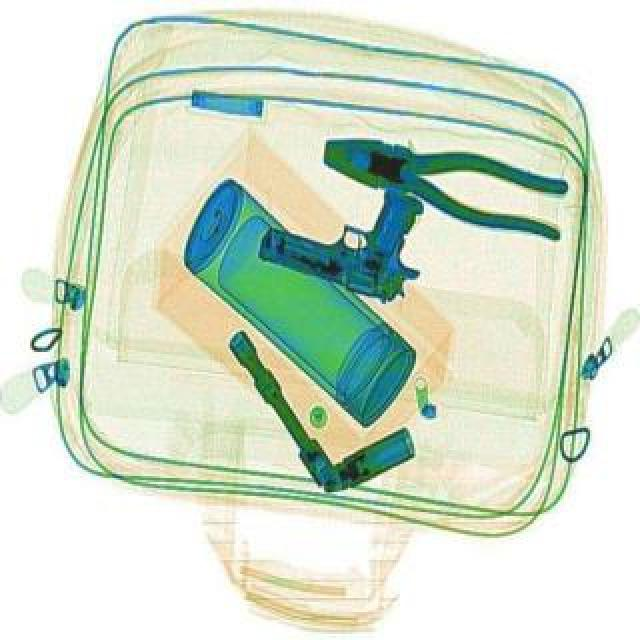gun: (256, 154, 444, 306)
wrench: (314, 120, 578, 242)
